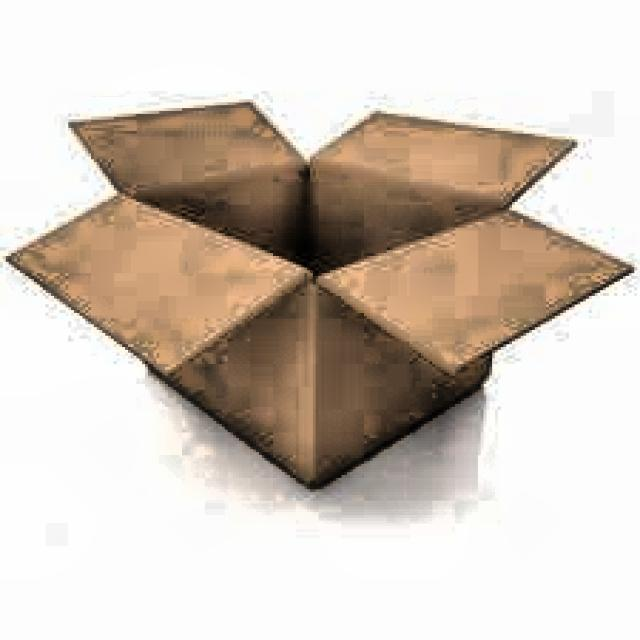Cardbox: (0, 86, 640, 496)
